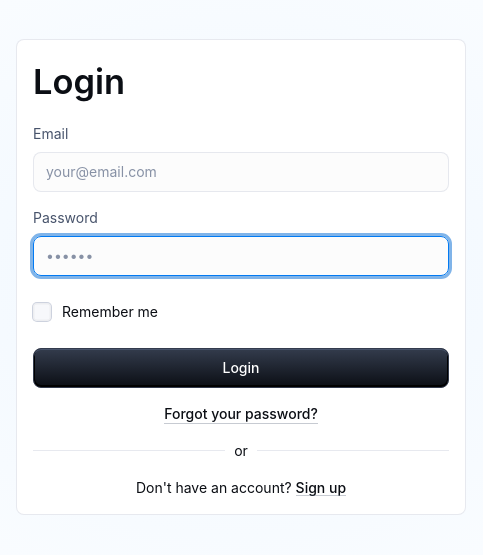
Test: Login page validation › shows validation errors for empty inputs
Click the submit button at x=241, y=368, box [33,348,449,388]
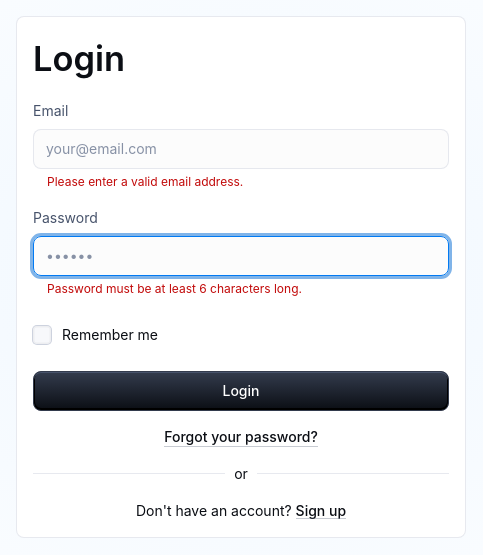
Check: the text "Please enter a valid email address." is shown, box [47,174,243,189]
Check: the text "Password must be at least 6 characters long." is shown, box [47,281,302,296]
